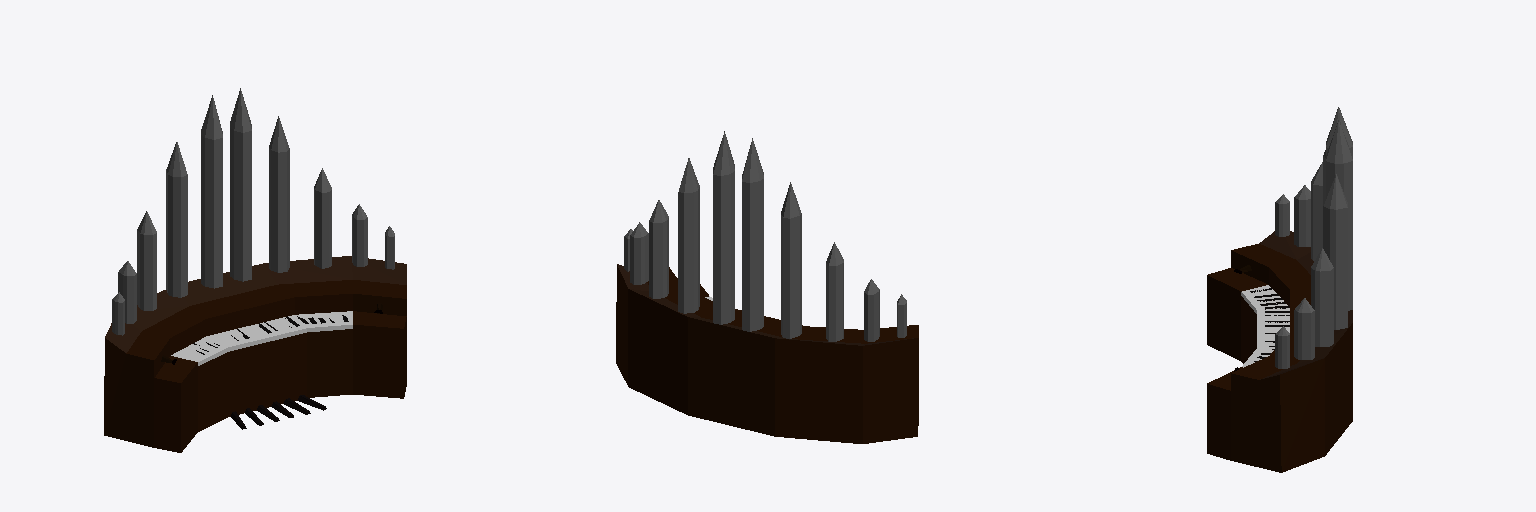
File: organ.obj
3 views of the same model, side by side, from view 1: azimuth 30°, elevation 25°; view 2: azimuth 150°, elevation 25°; view 3: azimuth 270°, elevation 25° (orthographic).
Bounding box in the file's own units: 434 × 393 × 182.